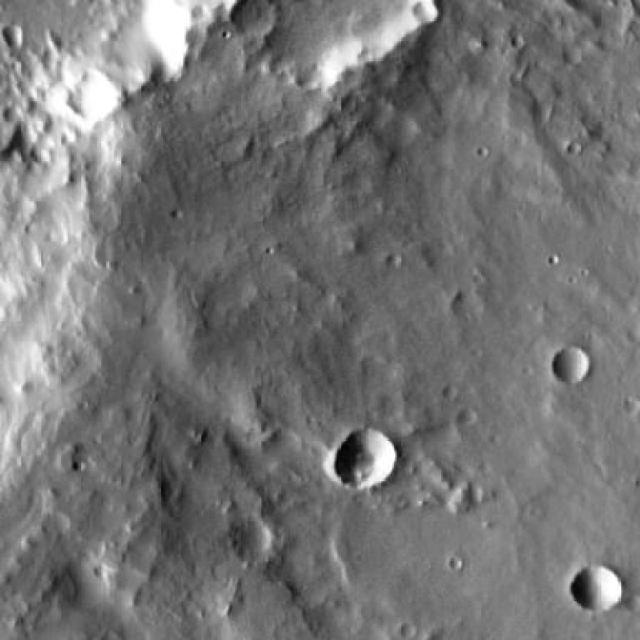crater: (337, 433, 397, 490), (572, 564, 622, 610), (232, 520, 277, 562), (553, 347, 589, 381), (415, 2, 440, 26), (462, 409, 482, 429), (0, 30, 17, 48)
